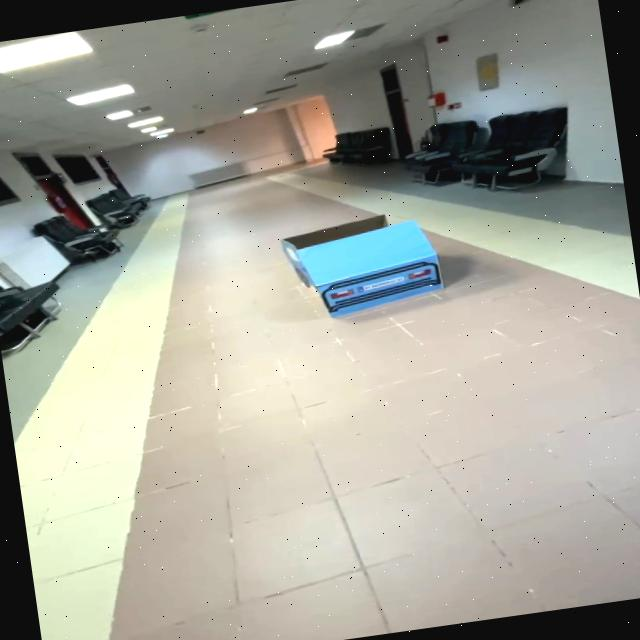blue_car: (247, 190, 472, 357)
